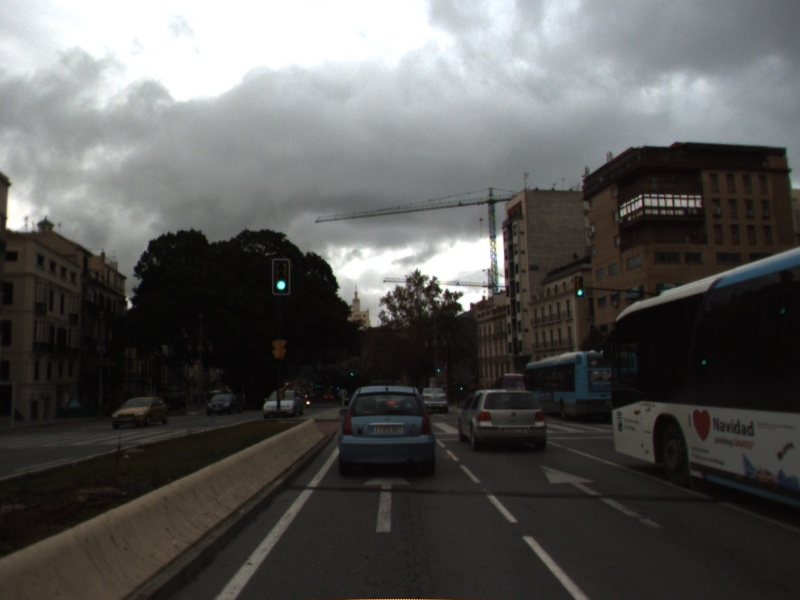STRAIGHT: (537, 462, 665, 531), (360, 472, 414, 534)
